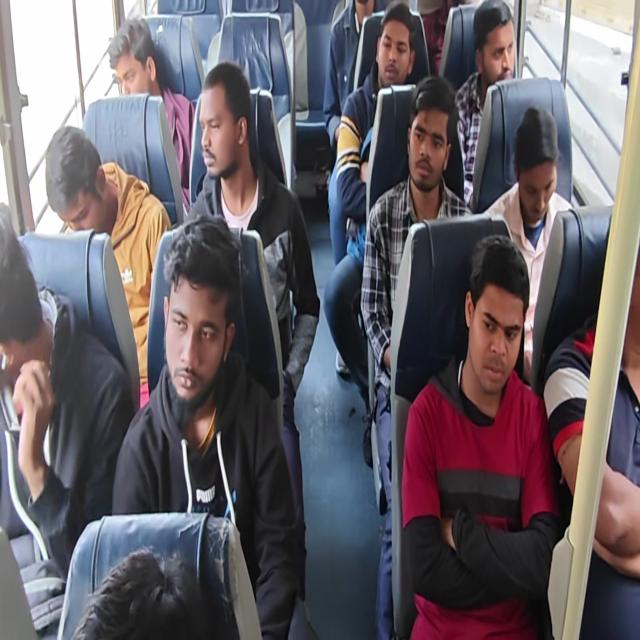person: (159, 214, 239, 401), (70, 547, 206, 640), (465, 239, 530, 404), (188, 59, 256, 183), (1, 194, 44, 378), (40, 120, 106, 230), (406, 78, 462, 207), (596, 214, 640, 368), (514, 101, 565, 227), (473, 5, 544, 85), (100, 7, 160, 99), (378, 2, 422, 86), (349, 0, 379, 15), (446, 1, 480, 13)
